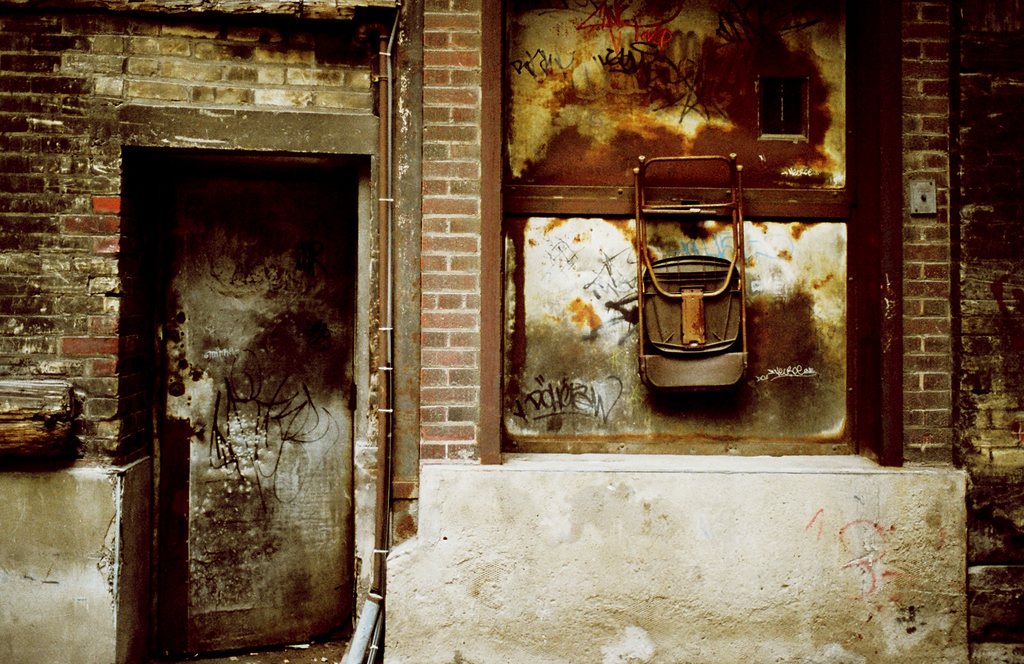door: (164, 180, 359, 644)
